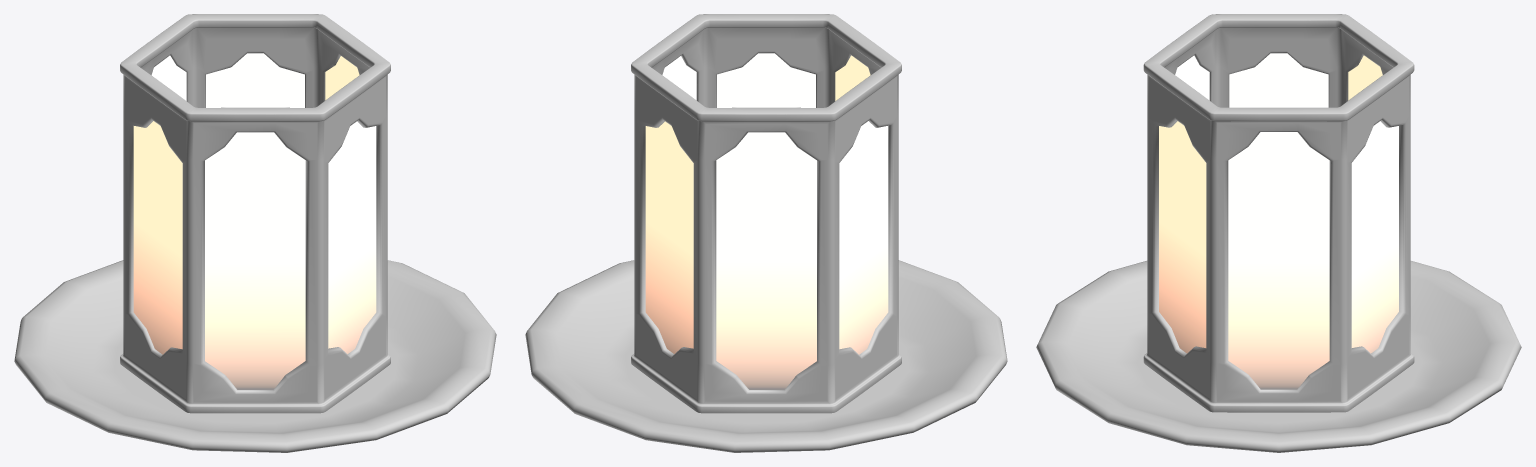
File: Torch_B.fbx
The picture shows the model from 3 angles, left to right: view 1: azimuth 30°, elevation 25°; view 2: azimuth 150°, elevation 25°; view 3: azimuth 270°, elevation 25°; orthographic projection.
Visible parts, largest first — view 1: Torch_B; view 2: Torch_B; view 3: Torch_B.
Part boxes in pixels (x1,y1,x2,y2): Torch_B: [14, 14, 496, 452]; Torch_B: [525, 14, 1007, 452]; Torch_B: [1036, 14, 1521, 452].
Bounding box in the file's own units: 0.3454 × 0.2432 × 0.3454.
